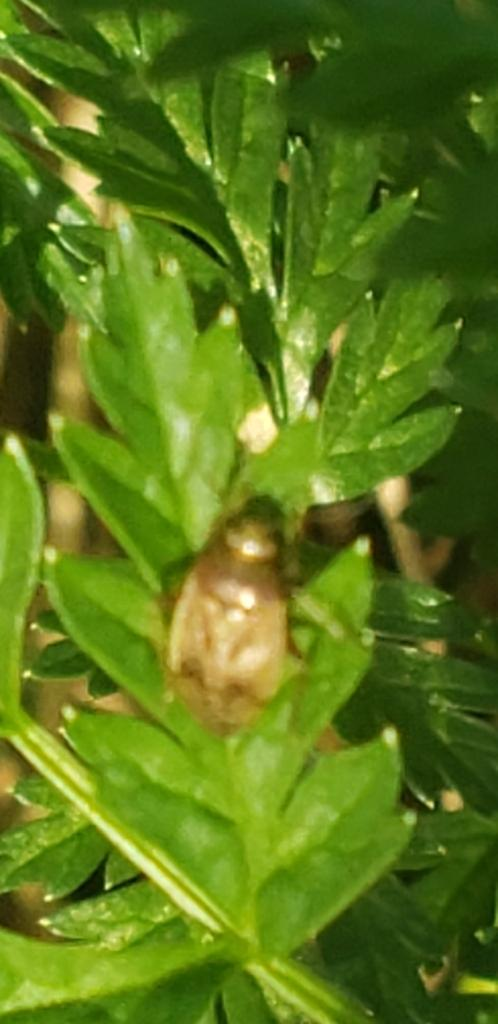plant_bugs: (103, 435, 325, 755)
